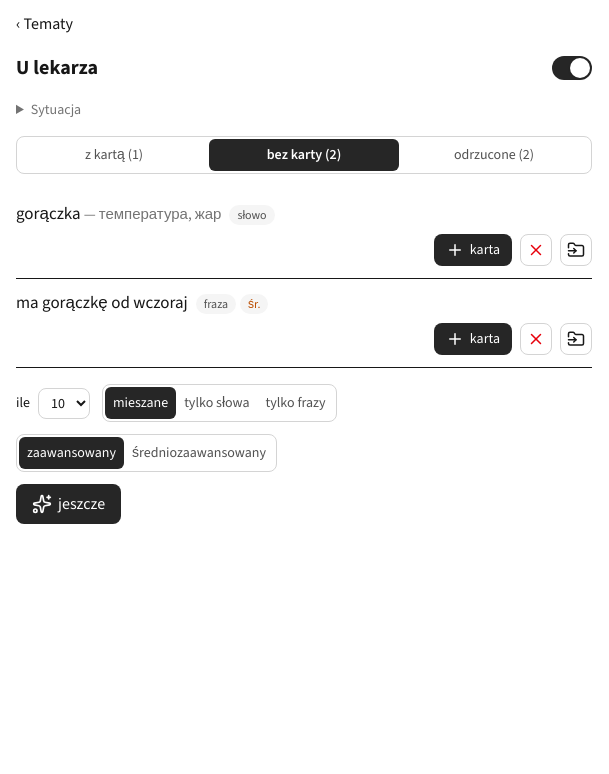
it: TopicPage › shows a Polish save error, not the English 400 text, when a hand-added item is rejected
The image size is (609, 774).
Click the button "z kartą (1)" at (114, 155), box left=19, top=139, right=209, bottom=171
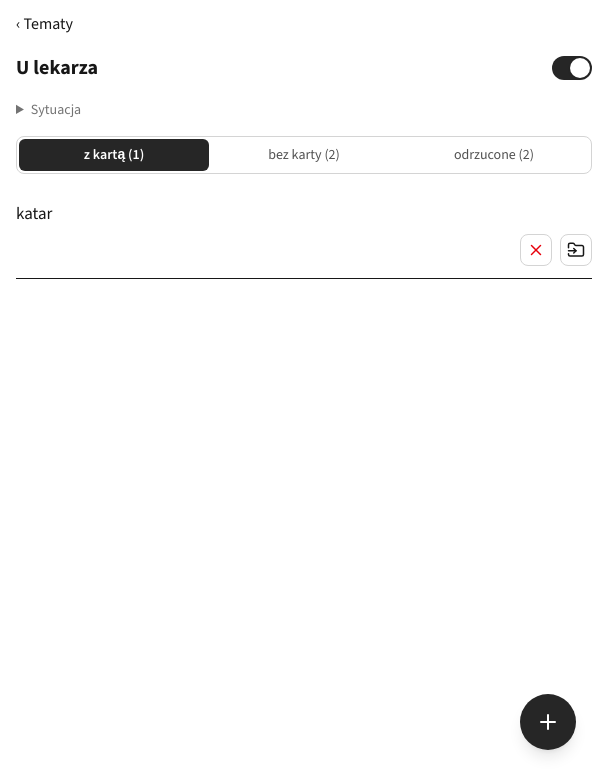
Click the button named "dodaj słowo lub frazę" at (548, 722), box left=520, top=694, right=576, bottom=750
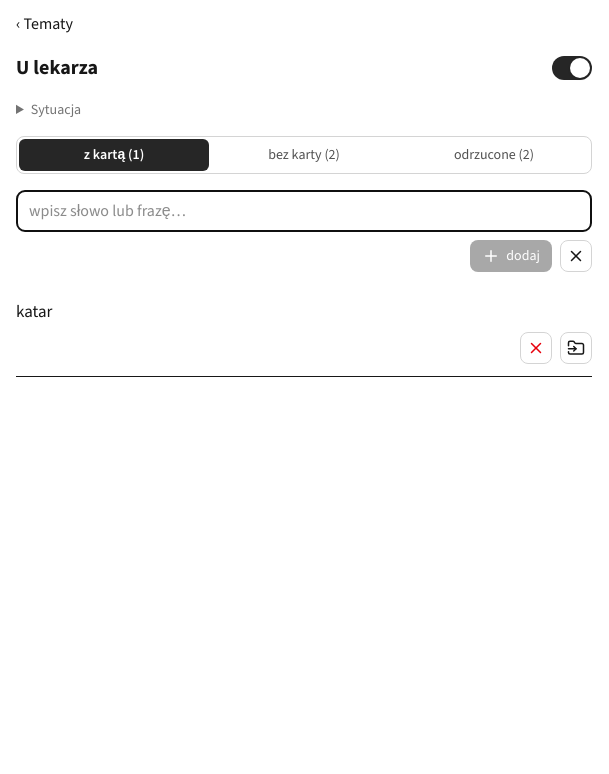
Type "?" into the field named "dodaj słowo lub frazę" at (304, 211), box left=16, top=190, right=592, bottom=232
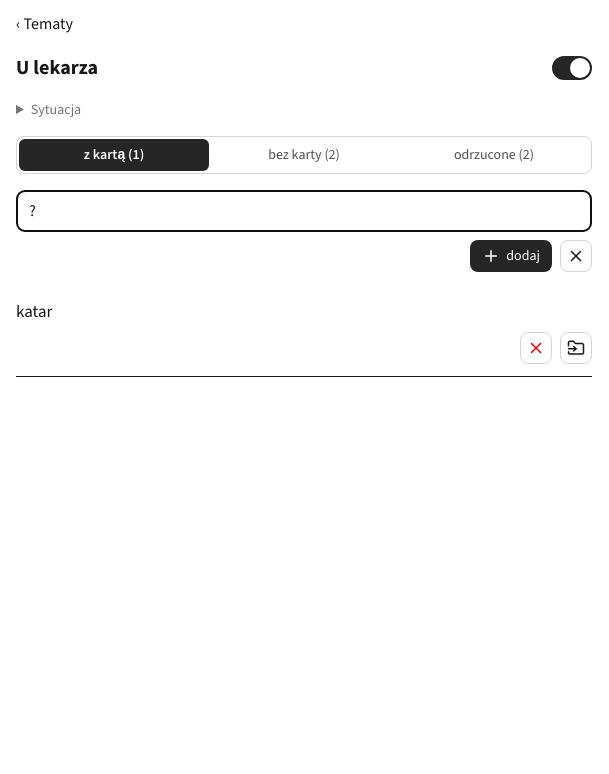
Click the button "dodaj" at (511, 256), box left=470, top=240, right=552, bottom=272
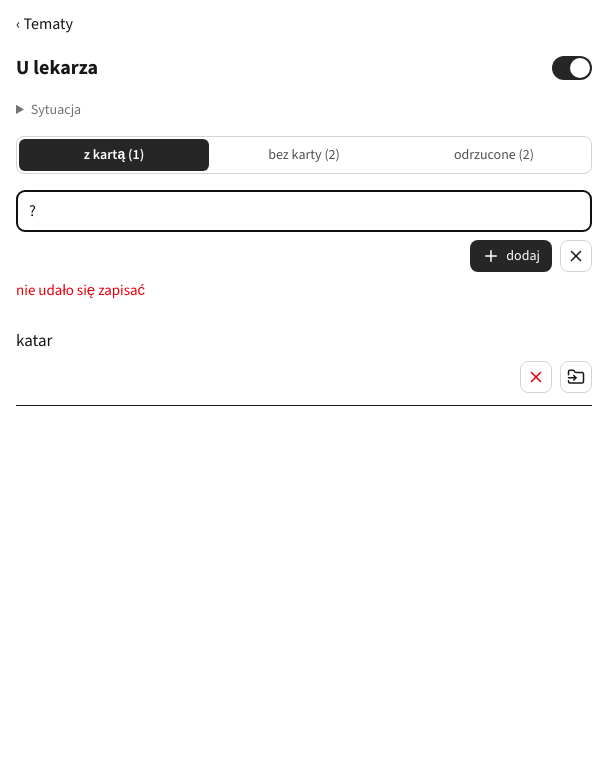
Expected: the text "nie udało się zapisać" is shown, left=16, top=280, right=145, bottom=300
